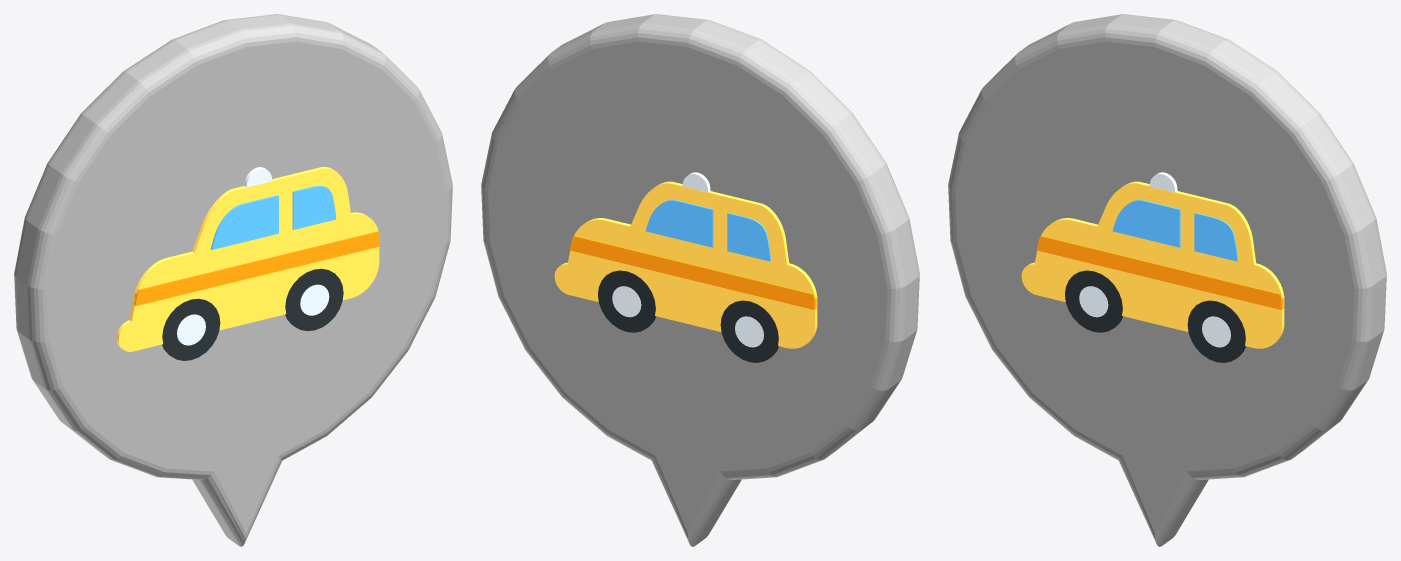
File: taxi.glb
3 renders of one model, left to right at view 1: azimuth 30°, elevation 25°; view 2: azimuth 150°, elevation 25°; view 3: azimuth 330°, elevation 25°, orthographic.
Visible parts, largest first — view 1: EmotionBubble; view 2: EmotionBubble; view 3: EmotionBubble.
Part boxes in pixels (x1,y1,x2,y2): EmotionBubble: (14, 14, 452, 546); EmotionBubble: (481, 14, 919, 546); EmotionBubble: (948, 14, 1386, 546).
Size of the model in its own units: 5.29 by 6.16 by 0.718.
